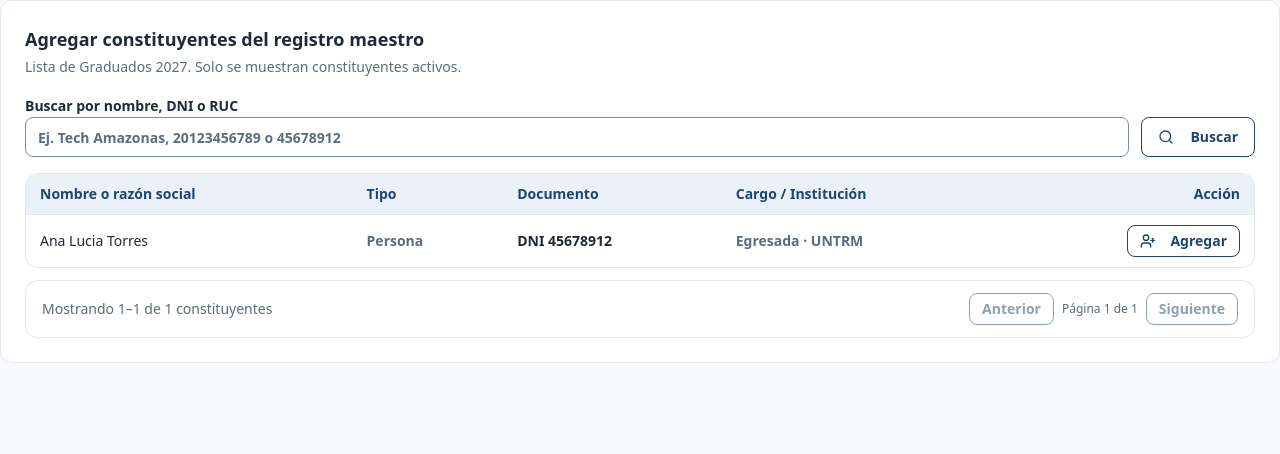
StakeholderListMemberPicker (HU-022, T-022-28) › explains a voided stakeholder (409)
Click the button with aria-label "Agregar Ana Lucia Torres a la lista" at {"x": 1184, "y": 240}, box x1=1128 y1=224 x2=1240 y2=256
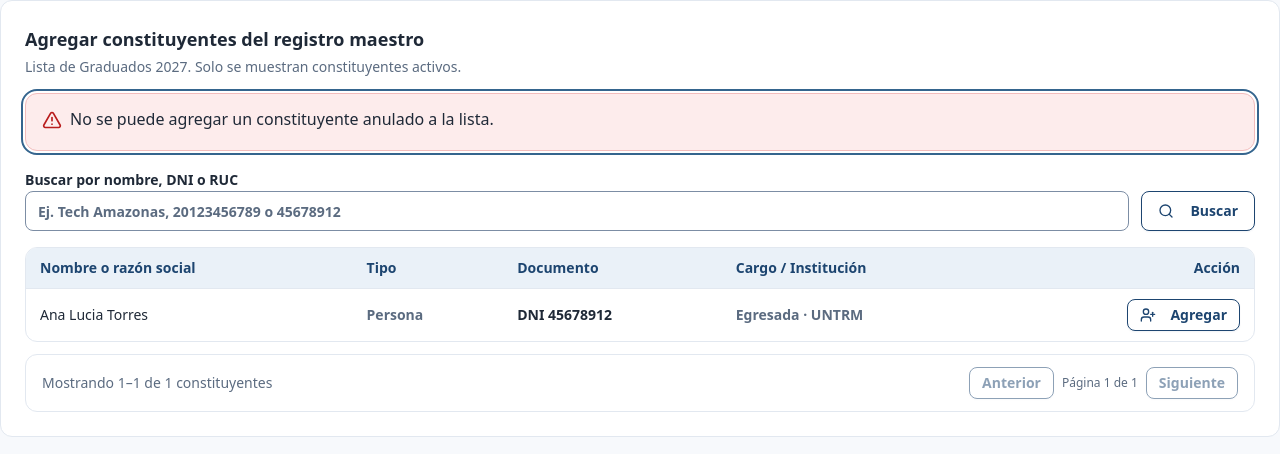
Check: the message shows "constituyente anulado", box x1=70 y1=108 x2=494 y2=130
